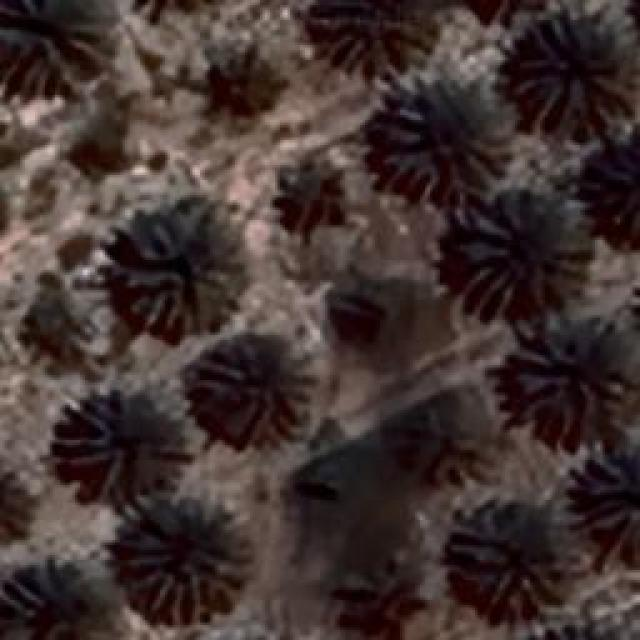PalmTree: (378, 62, 518, 200), (52, 382, 192, 510), (455, 192, 590, 310), (118, 498, 248, 620), (507, 12, 635, 128), (510, 312, 622, 430), (125, 218, 240, 332), (190, 342, 310, 448), (452, 507, 558, 615), (0, 0, 102, 95), (330, 550, 430, 640), (310, 0, 430, 72), (386, 401, 486, 484), (0, 567, 105, 640), (270, 165, 358, 238), (580, 445, 635, 560), (206, 52, 289, 126), (590, 136, 640, 254), (0, 463, 37, 550), (517, 615, 633, 640)
